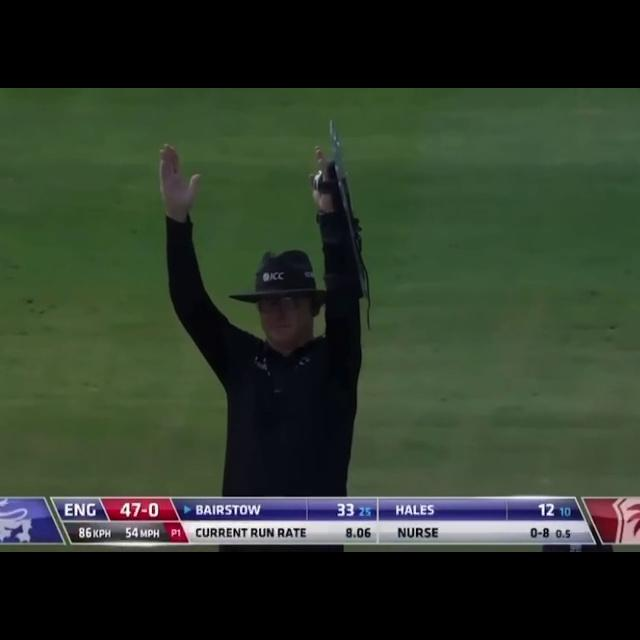umpire: (137, 124, 393, 495)
